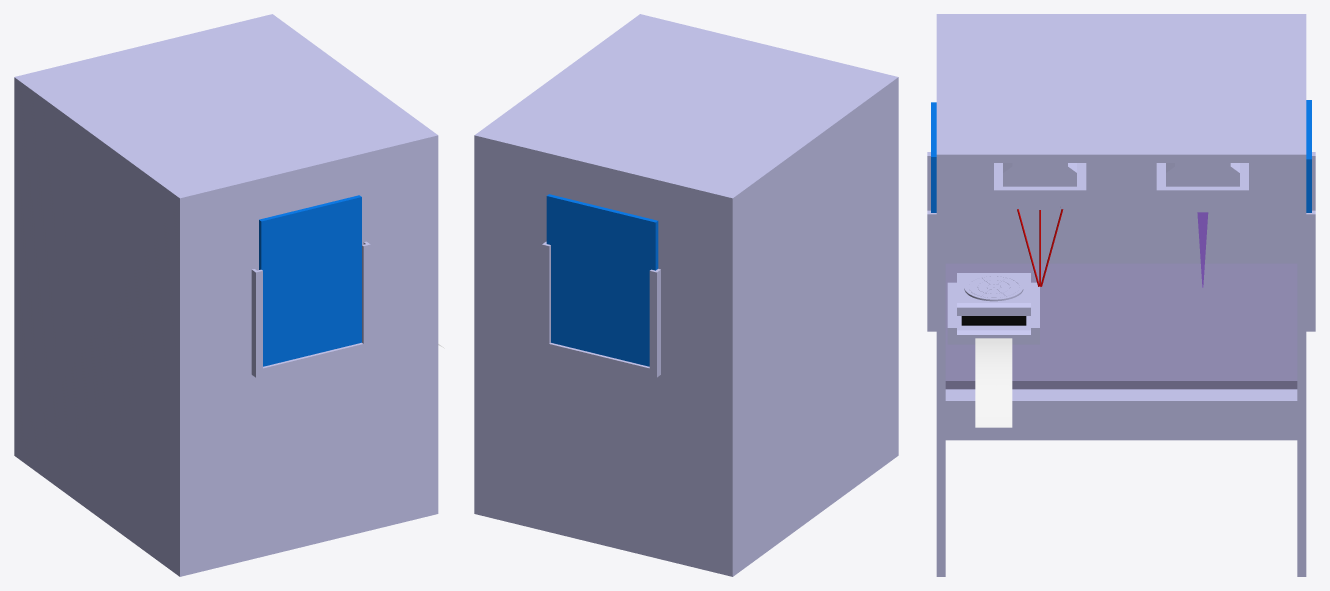
The model's file is LITHO_Device.fbx.
3 views of the same model, side by side, from view 1: azimuth 30°, elevation 25°; view 2: azimuth 150°, elevation 25°; view 3: azimuth 270°, elevation 25° (orthographic). The views are drawn at different scales.
Visible parts, largest first — view 1: LITHO_Frame, LITHO_Door.1; view 2: LITHO_Frame, LITHO_Door; view 3: LITHO_Frame, LITHO_Frame001, LITHO_LithoNozzle001, LITHO_AlignNozzle, SHELL, COMPOUND, COMPOUND001, COMPOUND002, LITHO_Door, LITHO_Door.1, COMPOUND003, LITHO_AlignNozzle001.
Boxes of the visible parts, bbox=[...] form: LITHO_Frame: bbox=[14, 14, 438, 576]; LITHO_Door.1: bbox=[259, 195, 361, 366]; LITHO_Frame: bbox=[474, 14, 898, 576]; LITHO_Door: bbox=[546, 194, 658, 366]; LITHO_Frame: bbox=[927, 14, 1315, 576]; LITHO_Frame001: bbox=[945, 263, 1297, 389]; LITHO_LithoNozzle001: bbox=[1156, 163, 1248, 212]; LITHO_AlignNozzle: bbox=[994, 163, 1086, 209]; SHELL: bbox=[975, 338, 1012, 427]; COMPOUND: bbox=[947, 282, 1039, 344]; COMPOUND001: bbox=[957, 273, 1030, 315]; COMPOUND002: bbox=[964, 274, 1023, 301]; LITHO_Door: bbox=[1306, 100, 1311, 212]; LITHO_Door.1: bbox=[931, 102, 936, 212]; COMPOUND003: bbox=[961, 316, 1026, 325]; LITHO_AlignNozzle001: bbox=[1017, 209, 1063, 286].
Bounding box in the file's own units: 197 × 252 × 210.
